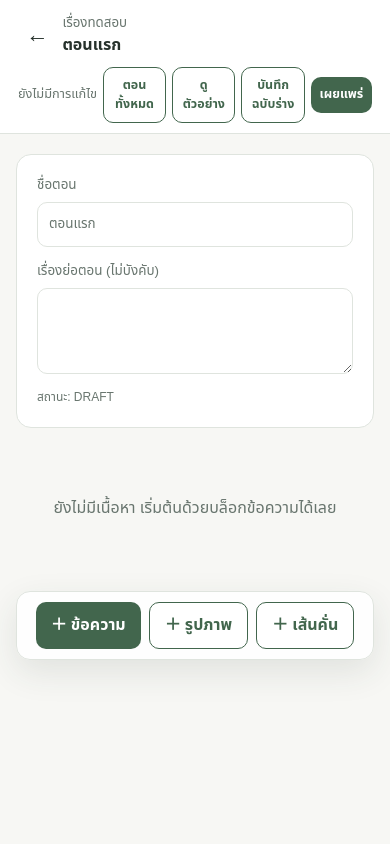
Test: NovelEpisodeEditor › opens mobile episode navigation through an accessible button
The width and height of the screenshot is (390, 844).
Click the button "ตอนทั้งหมด": (135, 95) [103,67,166,123]
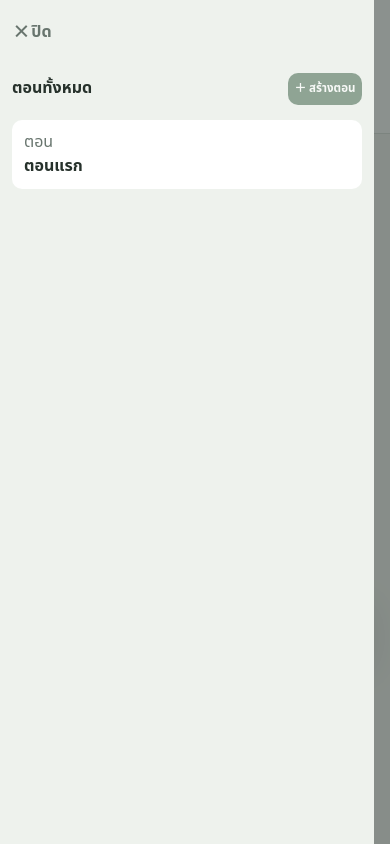
Expected: the button named "ปิดรายการตอน" is shown, [0,10,67,55]
